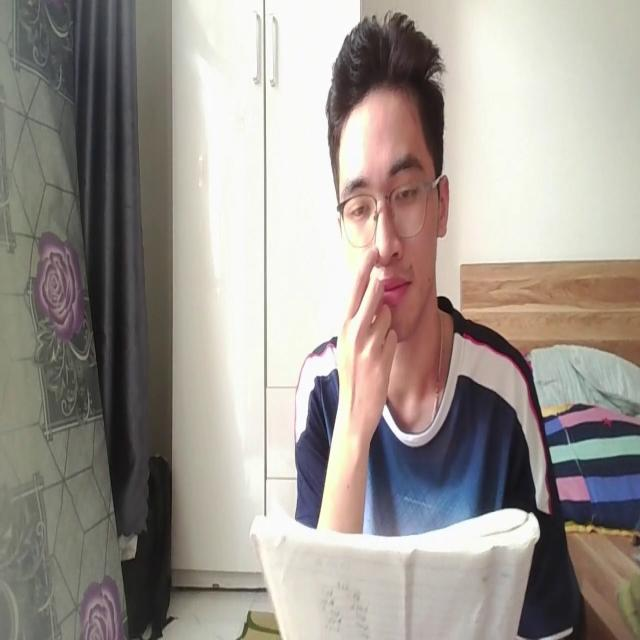book: (252, 492, 540, 640)
student: (294, 2, 590, 640)
